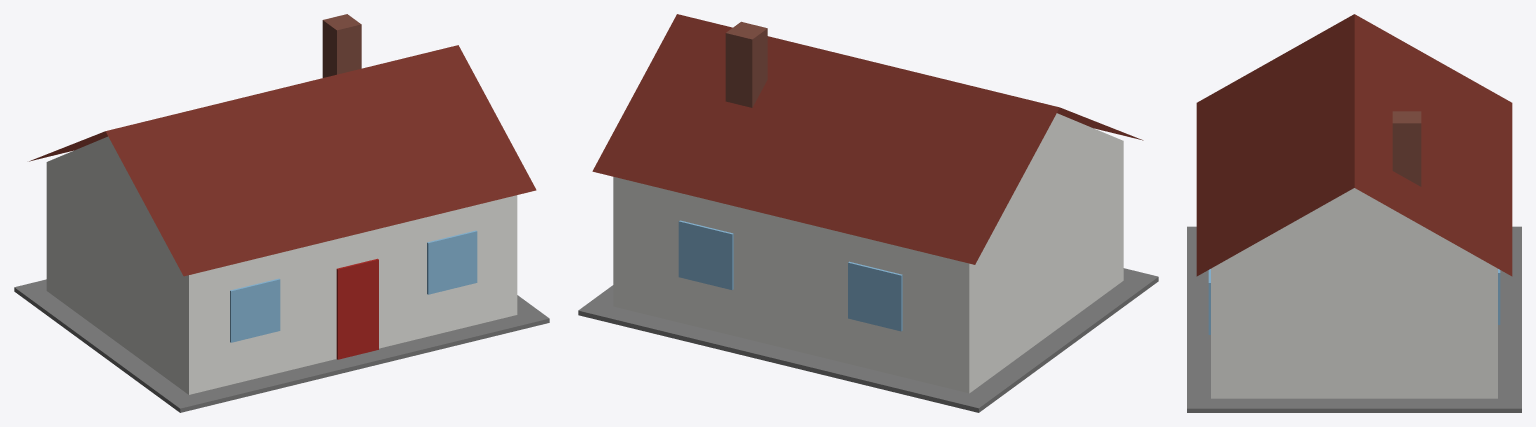
File: gable-house.glb
The picture shows the model from 3 angles, left to right: view 1: azimuth 30°, elevation 25°; view 2: azimuth 150°, elevation 25°; view 3: azimuth 270°, elevation 25°; orthographic projection. The views are drawn at different scales.
Visible parts, largest first — view 1: Roof, Walls, Plinth, Windows, Door, Chimney; view 2: Walls, Roof, Plinth, Windows, Chimney; view 3: Roof, Walls, Plinth, Chimney, Windows.
Boxes of the visible parts, bbox=[...] form: Roof: bbox=[29, 45, 536, 276]; Walls: bbox=[46, 136, 517, 394]; Plinth: bbox=[14, 279, 549, 412]; Windows: bbox=[230, 230, 477, 342]; Door: bbox=[336, 258, 378, 359]; Chimney: bbox=[322, 14, 361, 77]; Walls: bbox=[613, 113, 1123, 393]; Roof: bbox=[592, 14, 1143, 264]; Plinth: bbox=[578, 268, 1158, 412]; Windows: bbox=[678, 220, 902, 331]; Chimney: bbox=[725, 21, 767, 107]; Roof: bbox=[1196, 14, 1512, 276]; Walls: bbox=[1211, 188, 1497, 398]; Plinth: bbox=[1187, 226, 1521, 412]; Chimney: bbox=[1392, 111, 1421, 186]; Windows: bbox=[1208, 269, 1500, 334].
Size of the model in its own units: 9 by 5.7 by 7.
